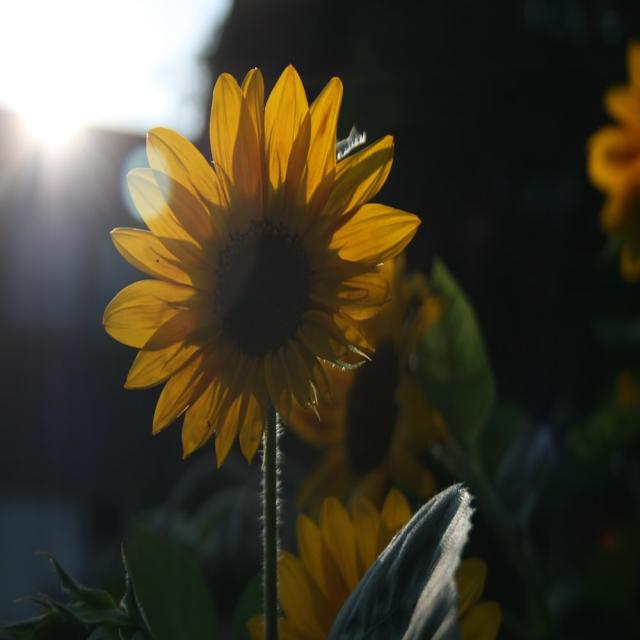sunflower: (94, 54, 427, 490), (241, 246, 463, 518), (240, 460, 501, 640), (589, 29, 640, 275)
